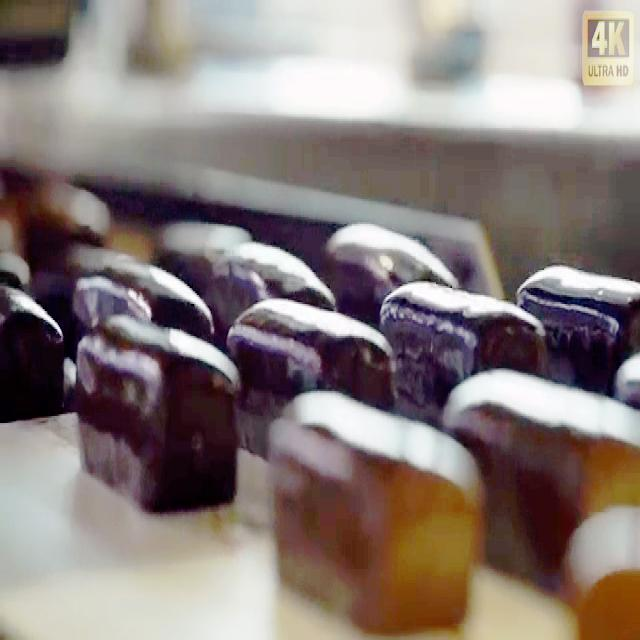Choco: (265, 384, 484, 629), (452, 358, 637, 566), (74, 311, 241, 512), (378, 274, 547, 412), (82, 251, 222, 390), (226, 292, 394, 404), (518, 259, 636, 390), (331, 212, 453, 326), (224, 235, 334, 324), (8, 268, 68, 426)
